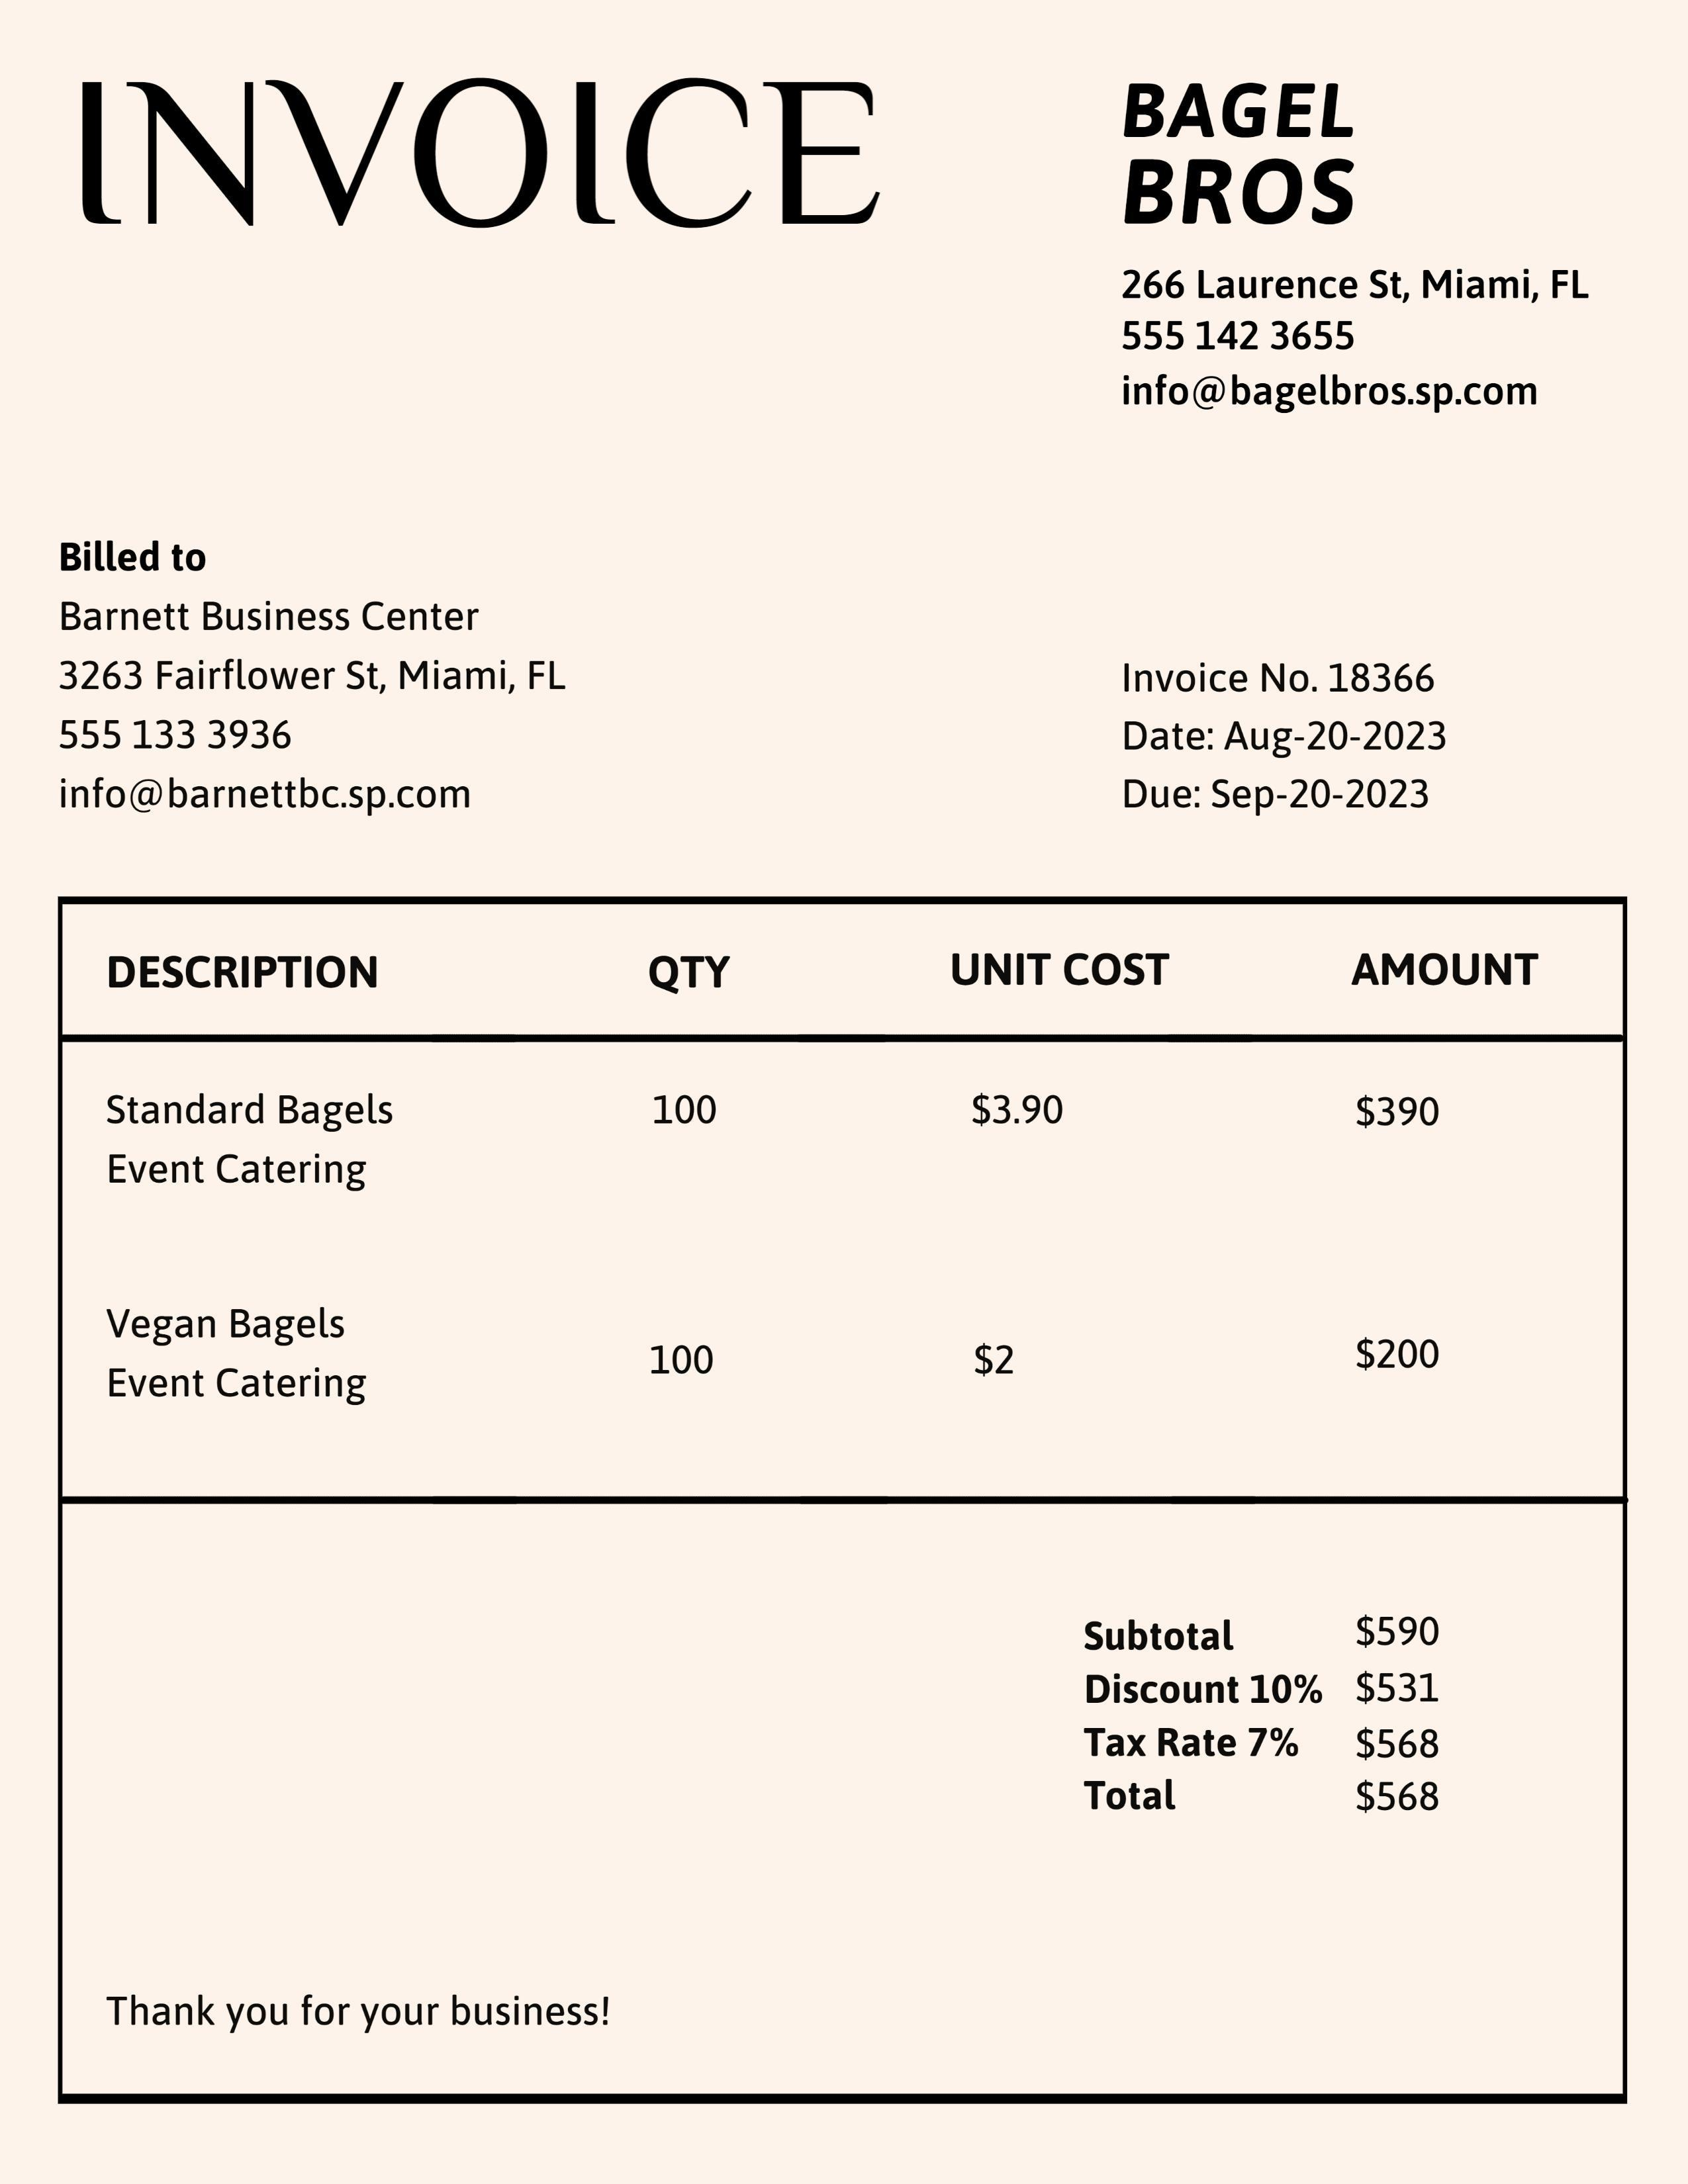ROI: (62, 897, 1621, 1491), (1112, 67, 1619, 427), (53, 525, 589, 828), (1037, 1601, 1498, 1840), (1092, 640, 1475, 826)
